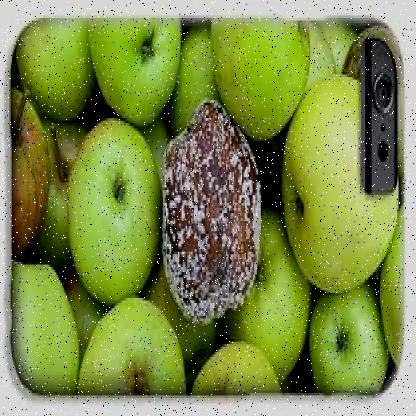apple: (292, 71, 402, 260), (68, 119, 152, 282), (231, 210, 313, 352), (87, 296, 183, 388), (214, 18, 300, 120), (309, 278, 387, 386), (9, 262, 79, 380), (96, 28, 176, 124), (24, 28, 87, 110), (166, 36, 229, 113), (198, 334, 277, 382)
damaged_apple: (156, 106, 272, 324)
